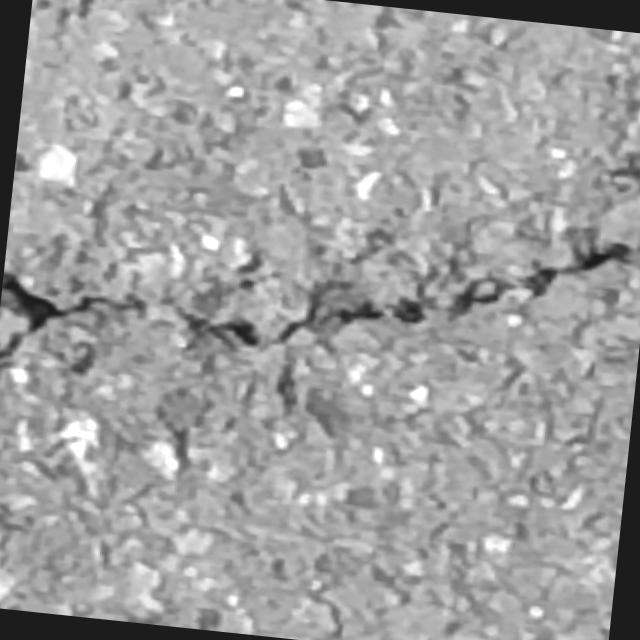crack: (0, 175, 640, 430)
